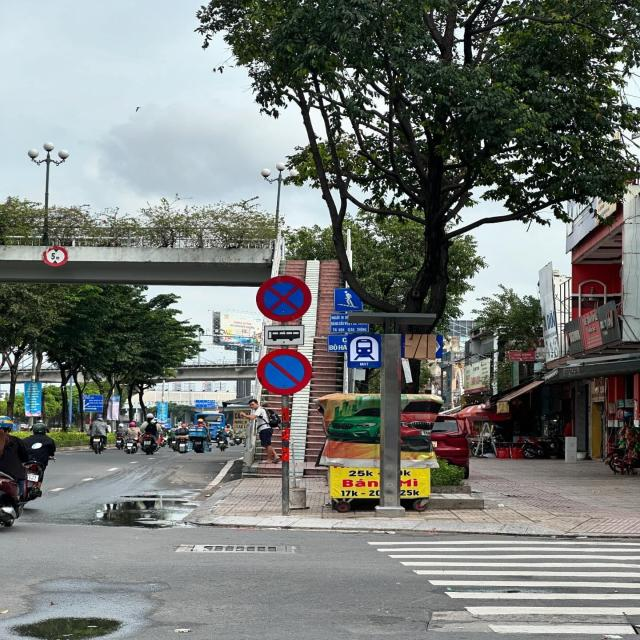Bien bao cam do xe: (252, 345, 318, 398)
Bien bao cam dung xe va do xe: (252, 272, 319, 324)
Bien bao han che chieu cao: (42, 245, 70, 269)
